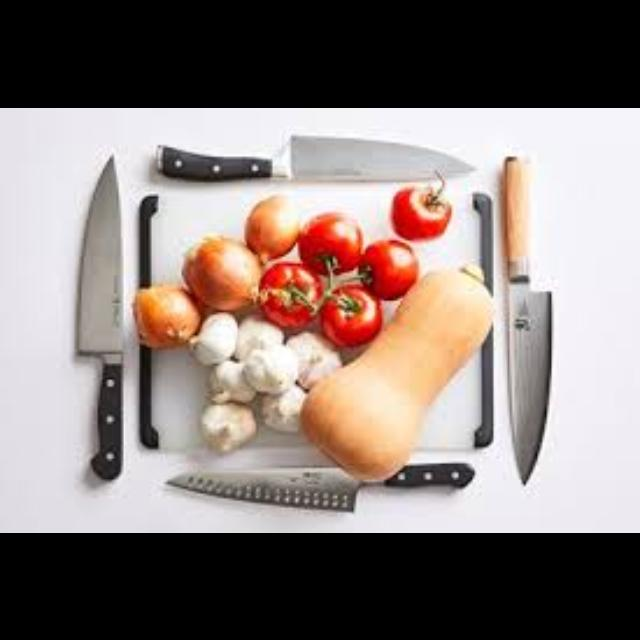knife: (163, 461, 474, 512), (503, 154, 551, 484), (75, 151, 123, 479), (154, 133, 476, 181)
